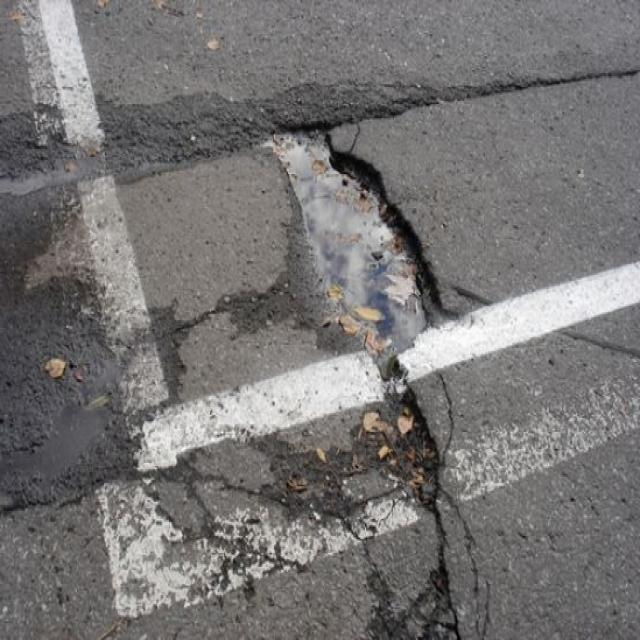pothole: (268, 120, 447, 363)
